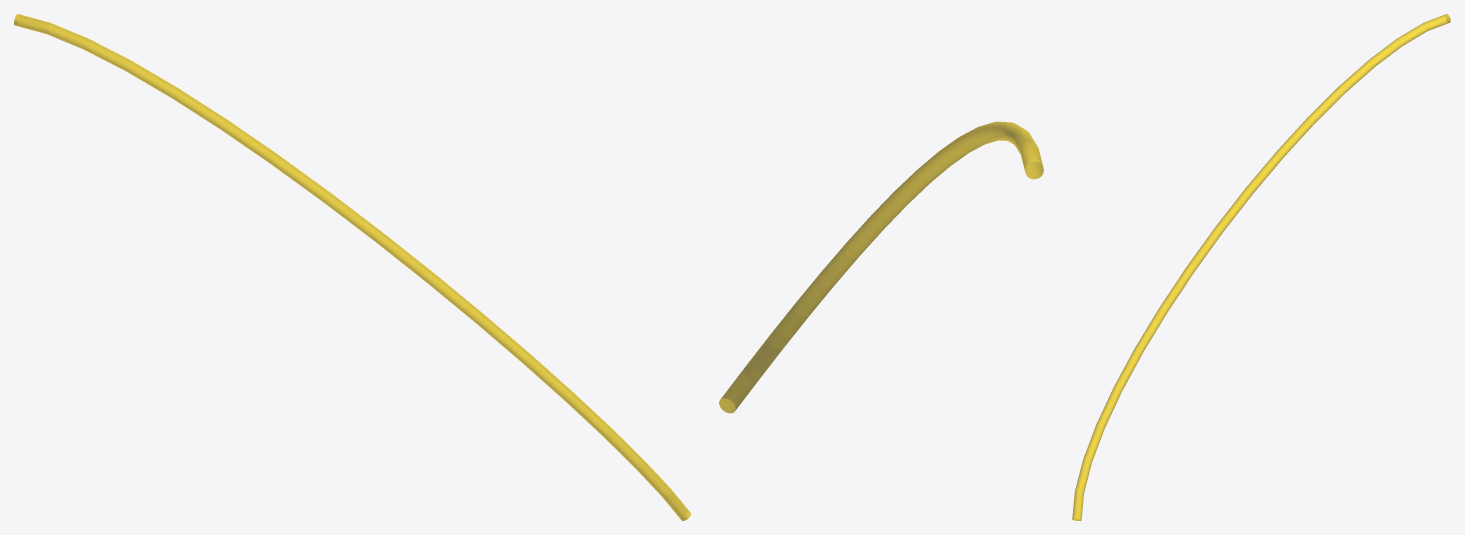
The model's file is Event_17758602_track_178.fbx.
The picture shows the model from 3 angles, left to right: view 1: azimuth 30°, elevation 25°; view 2: azimuth 150°, elevation 25°; view 3: azimuth 270°, elevation 25°; orthographic projection. The views are drawn at different scales.
Parts seen in each view (by area): view 1: Model; view 2: Model; view 3: Model.
Part boxes in pixels (box(x1,y1,x2,y2)): Model: box(14, 14, 690, 520); Model: box(719, 121, 1043, 413); Model: box(1072, 14, 1450, 520).
Bounding box in the file's own units: 1.69 × 1.6 × 1.61.
